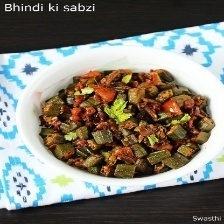sabzi: (28, 58, 220, 182)
